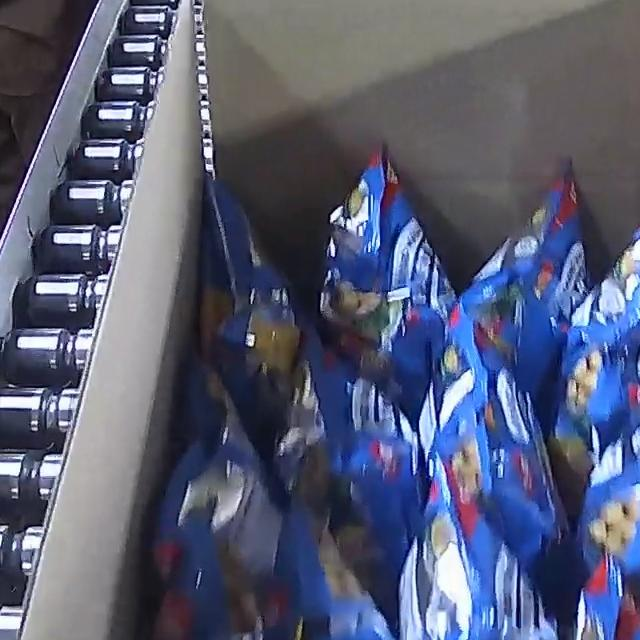paprika: (135, 139, 640, 640)
